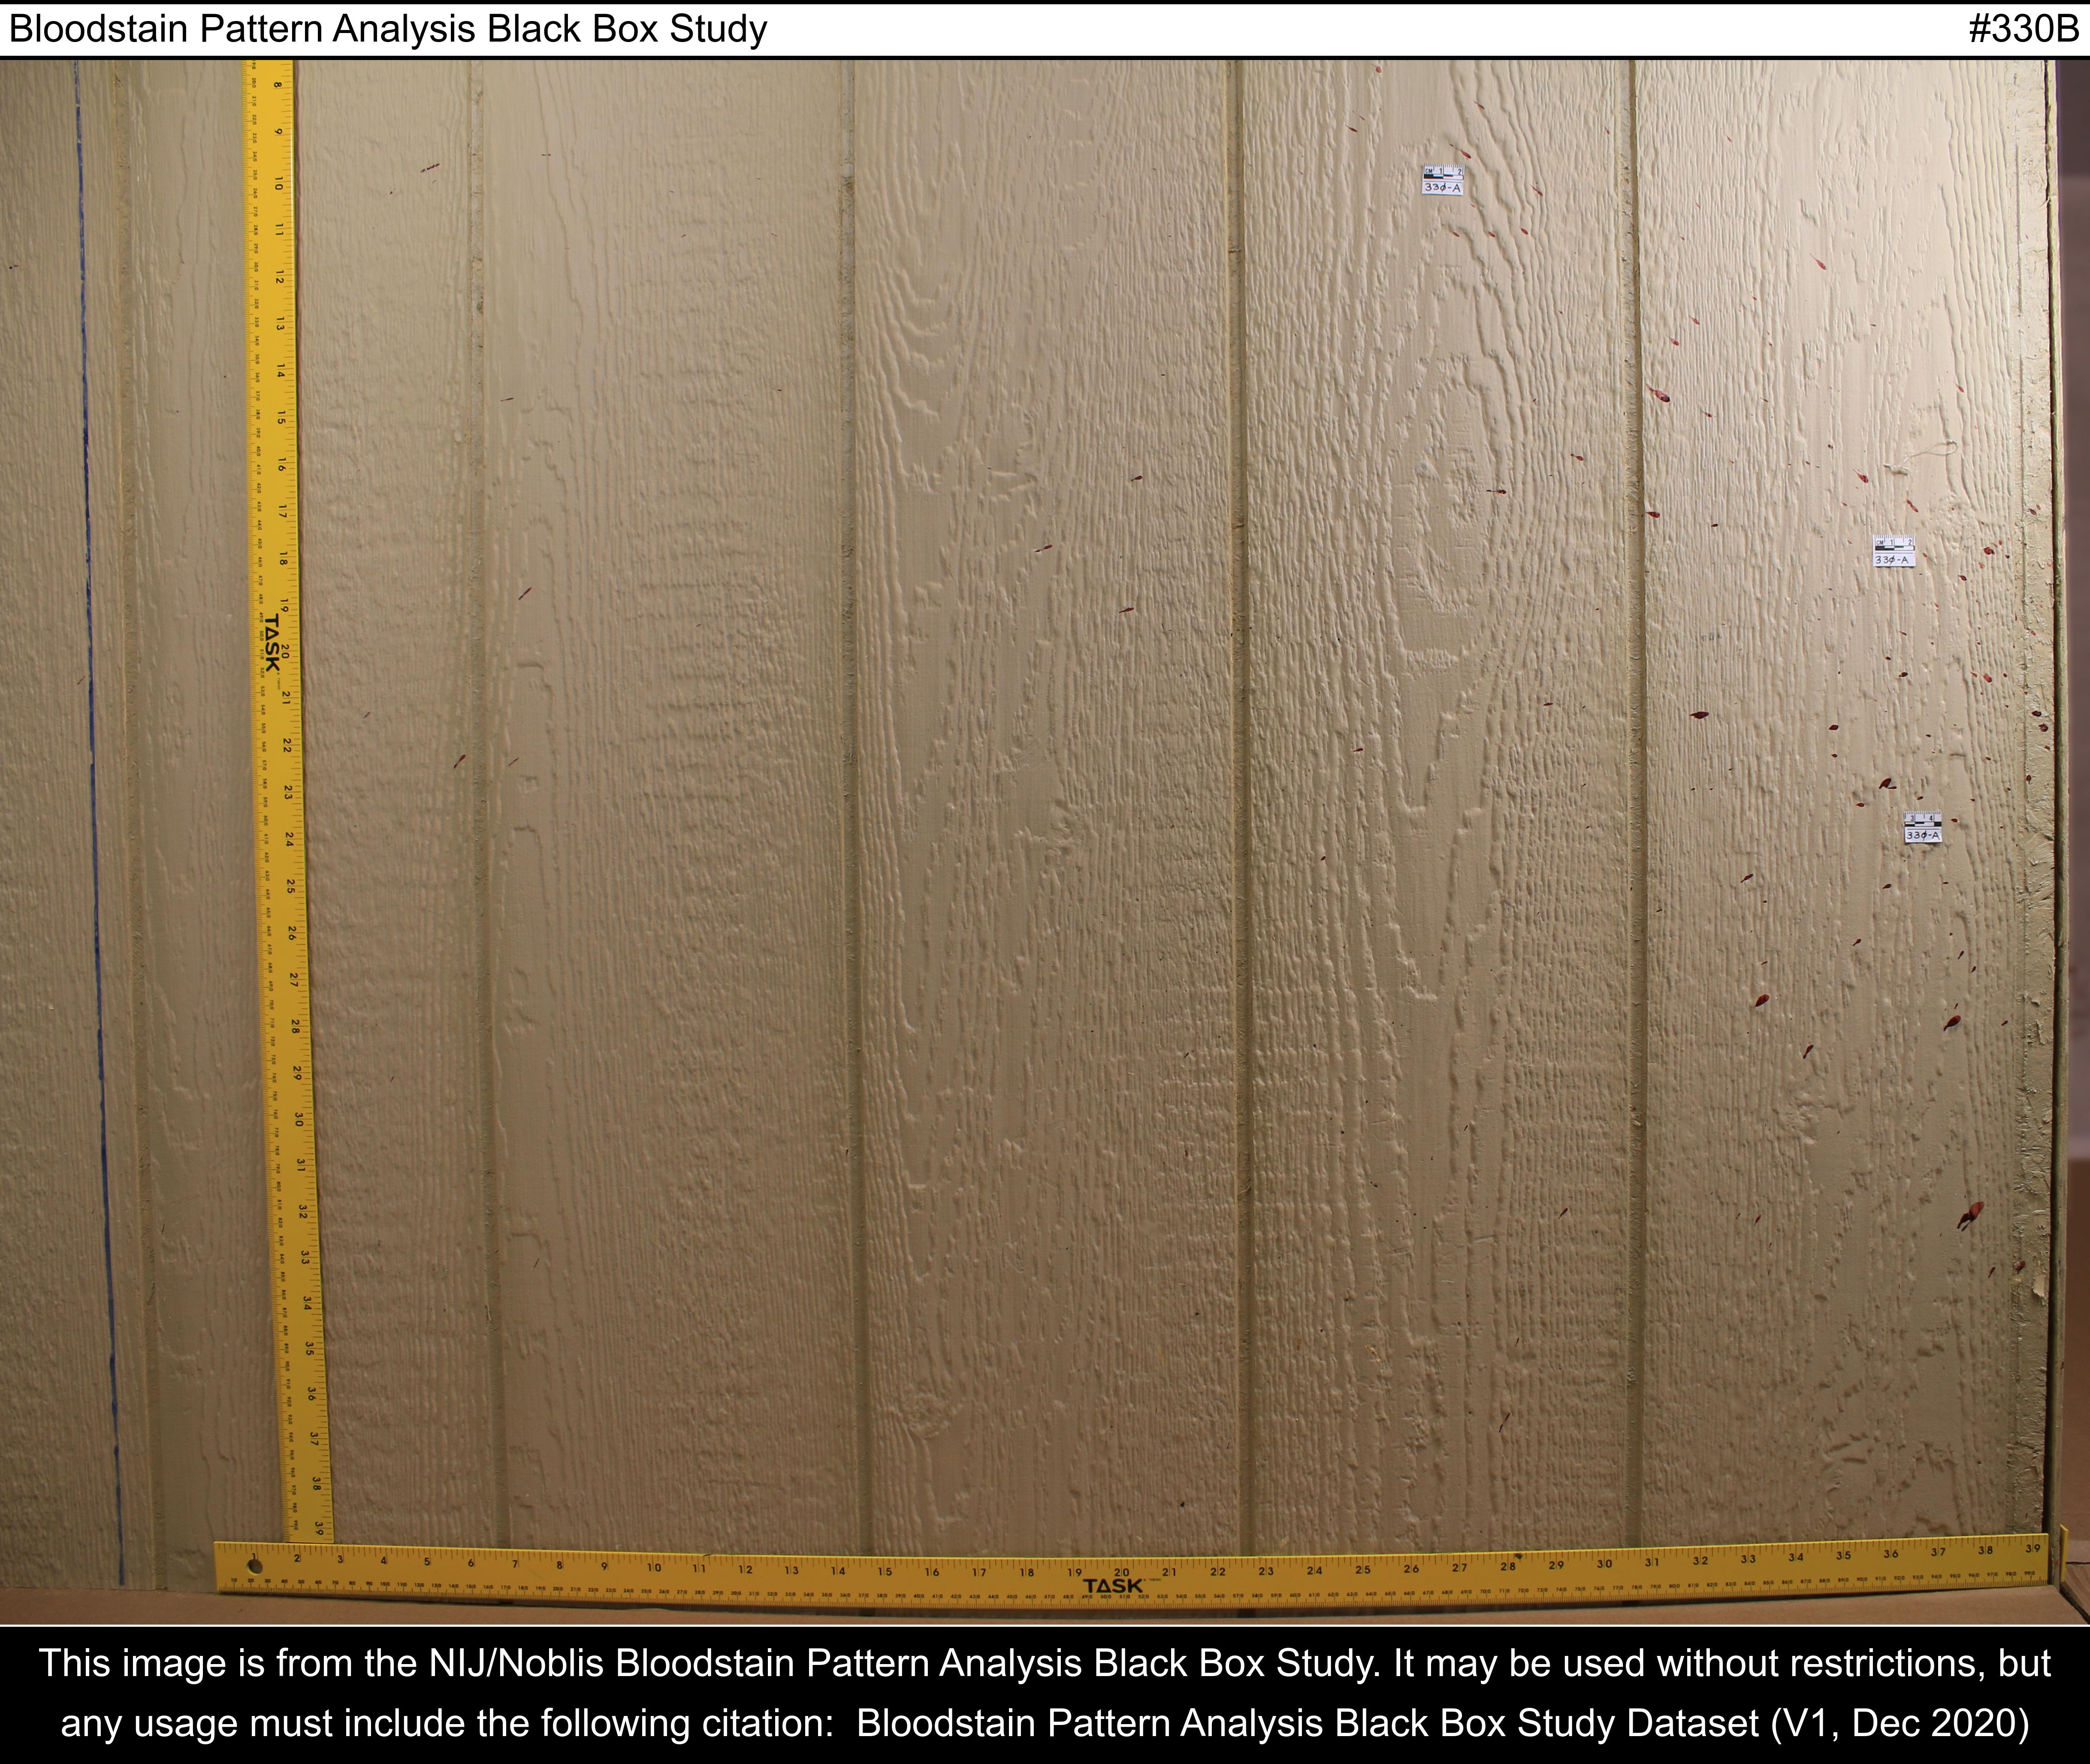Impact: (1518, 130, 2043, 1251)
